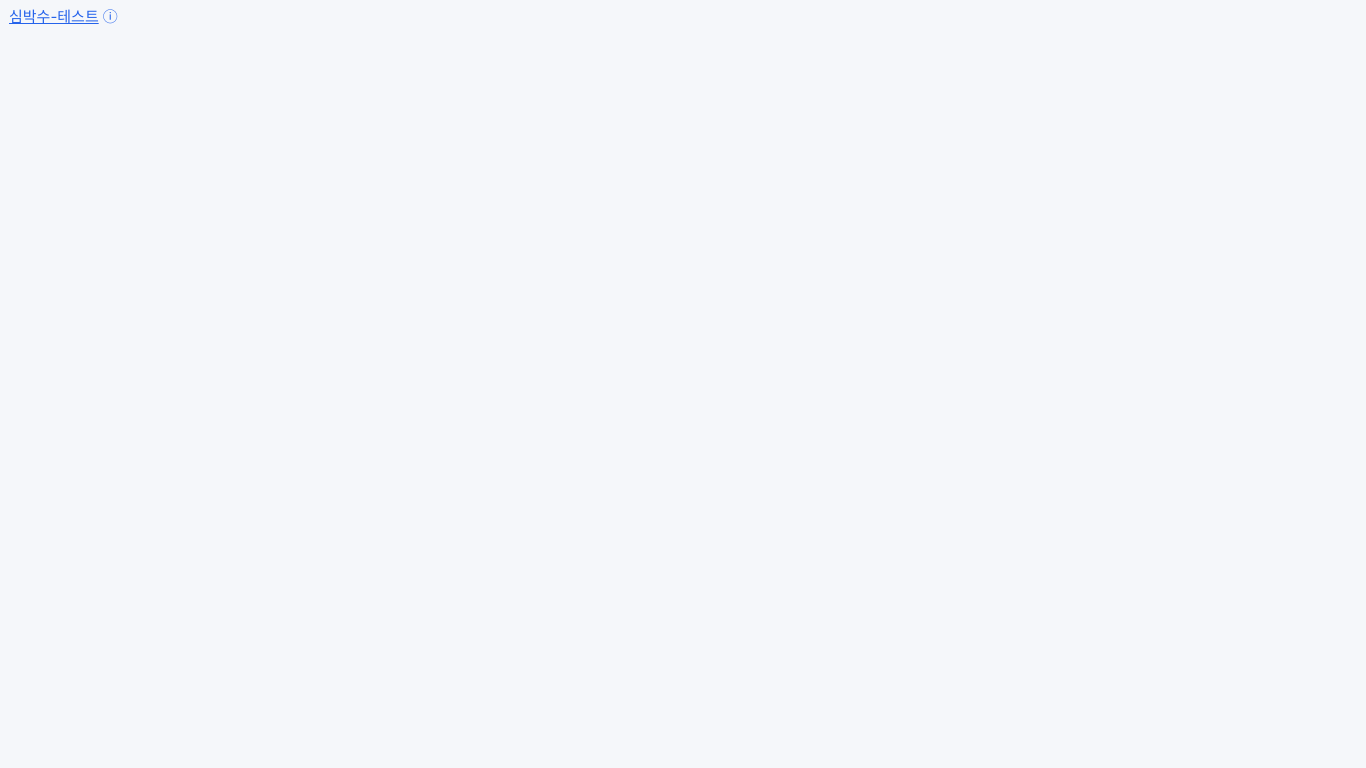
Test: MedicalTermDialog › renders an HTML-looking string as literal text, never as executed markup
The width and height of the screenshot is (1366, 768).
Click the button "심박수-테스트 ⓘ" at (63, 17), box [0, 0, 127, 33]
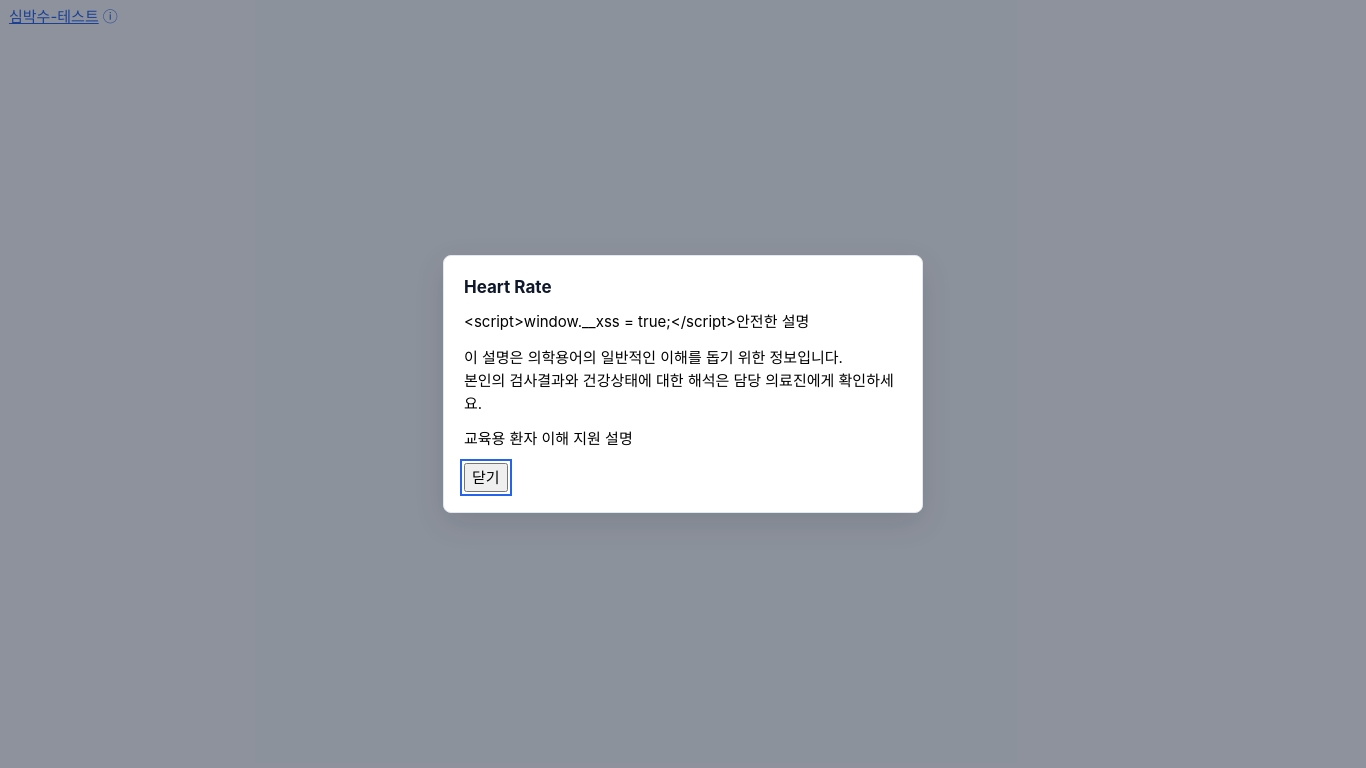
Expected: the text "<script>window.__xss = true;</script>안전한 설명" is shown, [464, 312, 809, 331]
